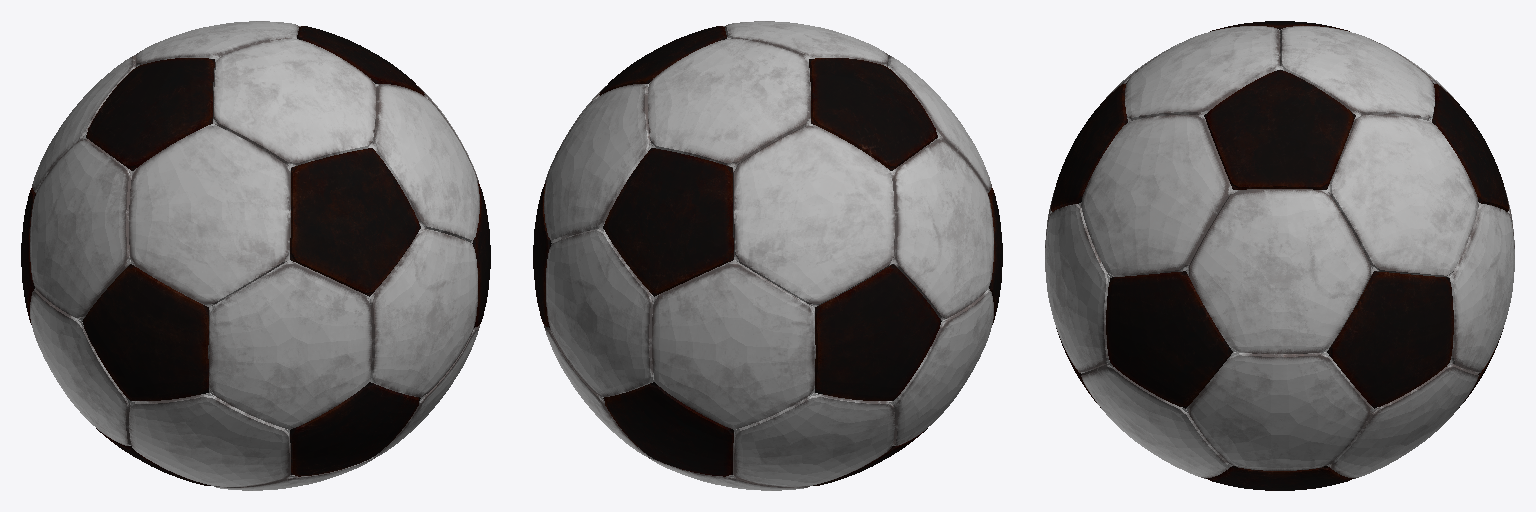
3 renders of one model, left to right at view 1: azimuth 30°, elevation 25°; view 2: azimuth 150°, elevation 25°; view 3: azimuth 270°, elevation 25°, orthographic.
Parts seen in each view (by area): view 1: Object.1; view 2: Object.1; view 3: Object.1.
Boxes of the visible parts, x1,y1,x2,y2 form: Object.1: [21, 21, 490, 490]; Object.1: [533, 21, 1002, 490]; Object.1: [1045, 21, 1514, 490].
Bounding box in the file's own units: 111845 × 111845 × 111845.
1 materials, 1 textured.